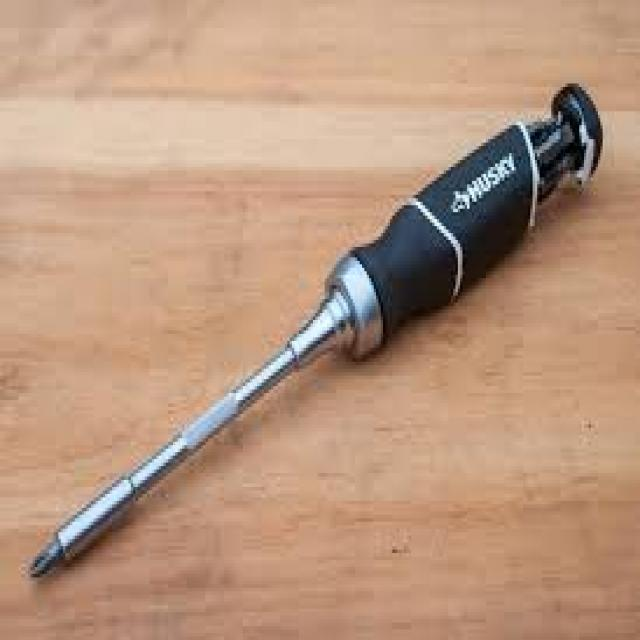screwdriver: (22, 72, 616, 604)
